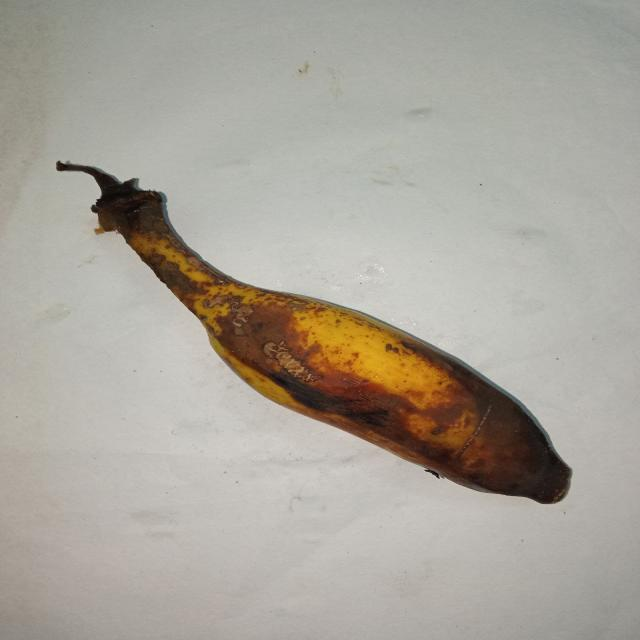rotten_banana: (95, 183, 572, 503)
